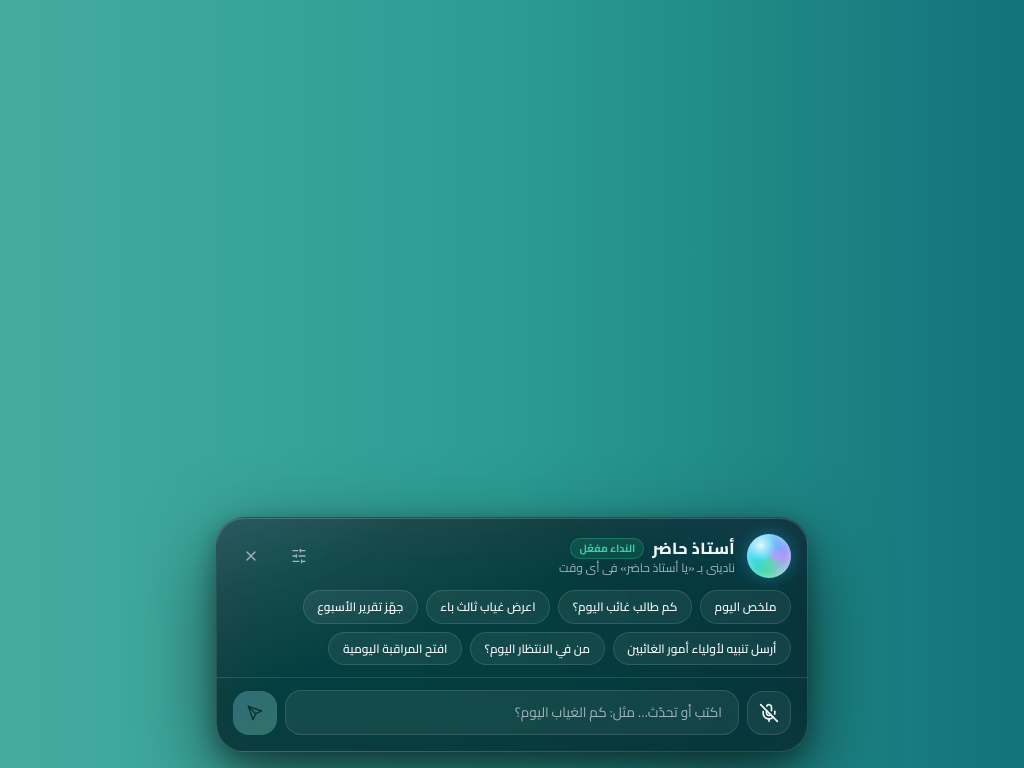
it: UstadHaderPanel › changes attendance only after the confirmation button is pressed
The width and height of the screenshot is (1024, 768).
Type "سجل حضور الطالب خالد" into the field with placeholder "اكتب أو تحدّث… مثل: كم الغياب اليوم؟" at (512, 713), box [285,690,739,735]
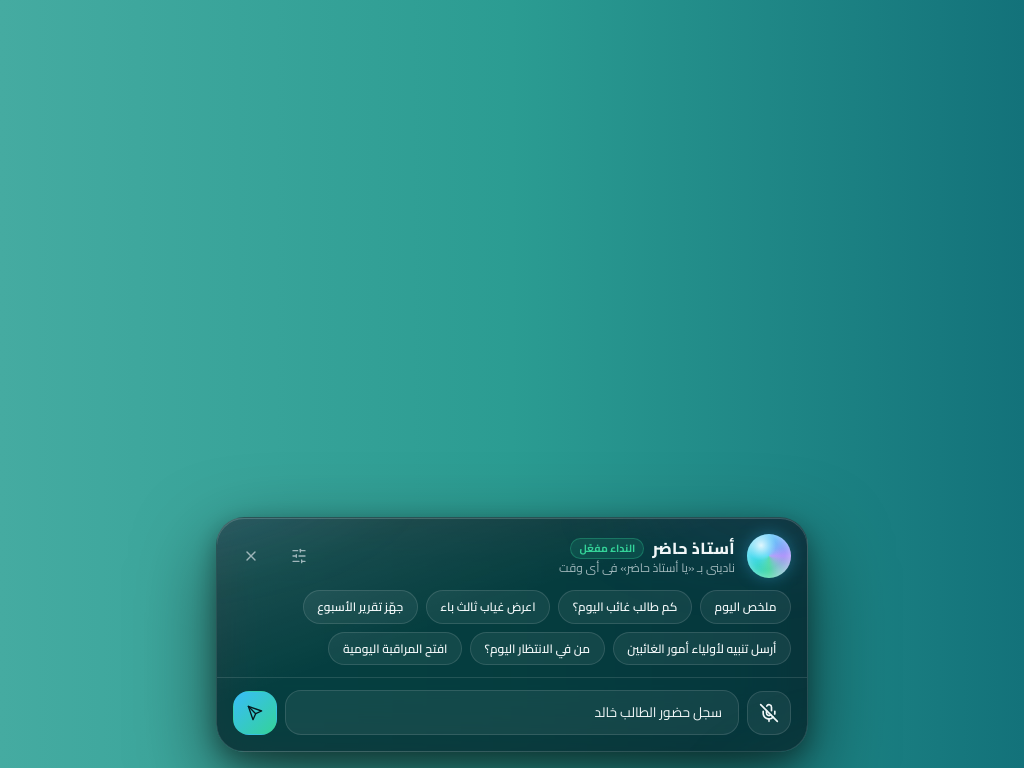
Click the button titled "إرسال الأمر" at (255, 713), box [233,691,277,735]
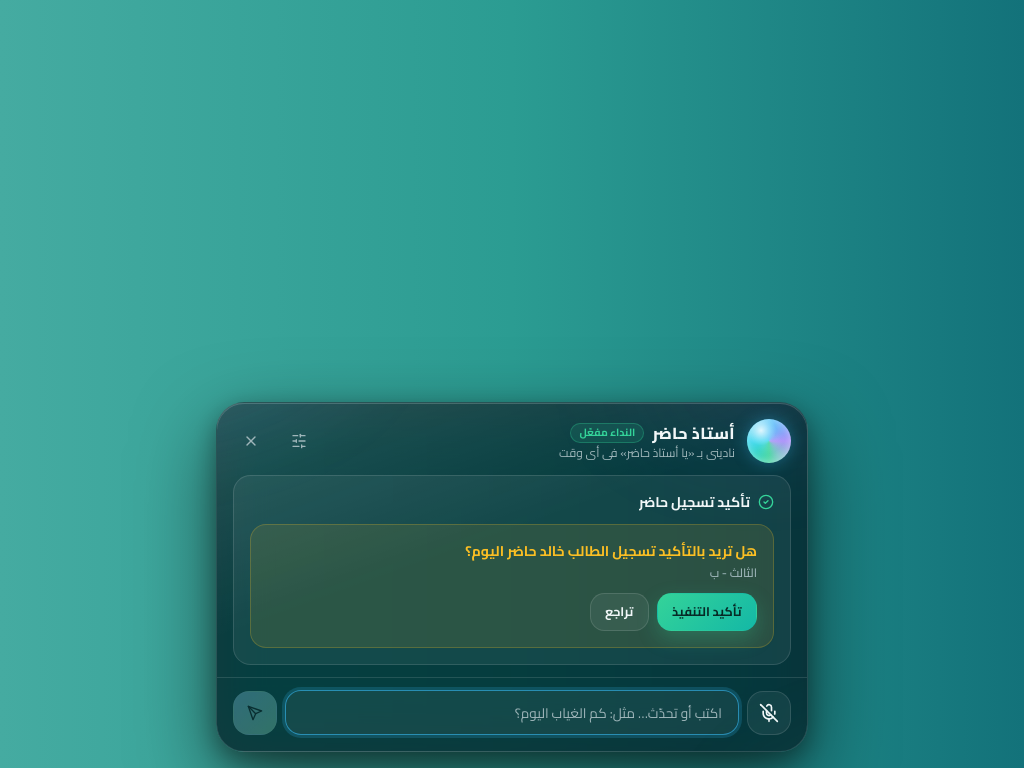
Expected: the text "هل تريد بالتأكيد تسجيل الطالب خالد حاضر اليوم؟ الثالث - ب" is shown, [465,538,757,584]
Click the button "تأكيد التنفيذ" at (707, 612), box [657,593,757,631]
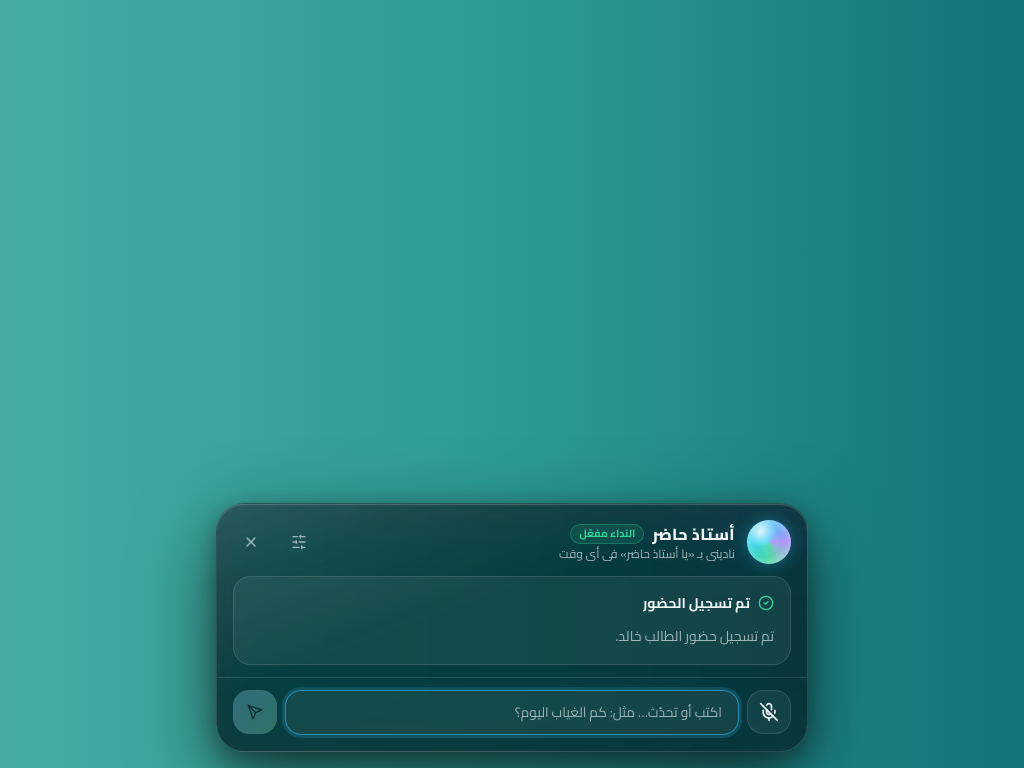
Expected: the text "تم تسجيل حضور الطالب خالد." is shown, [615,624,774,650]
